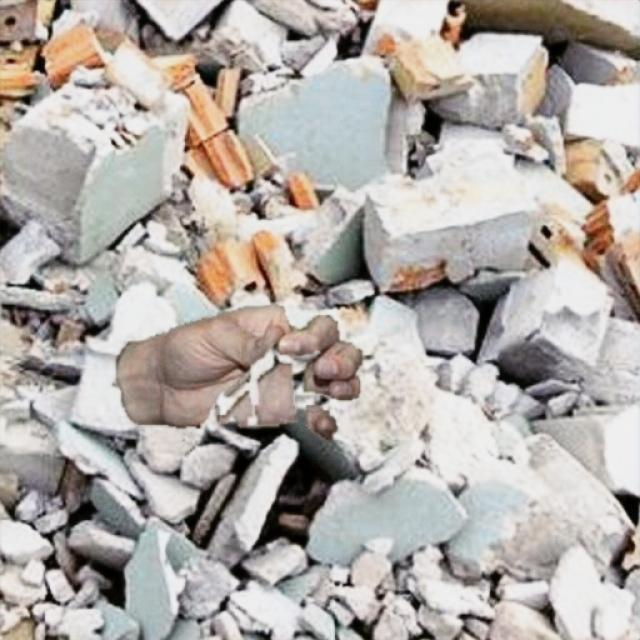Person in Rubble: (112, 302, 362, 438)
